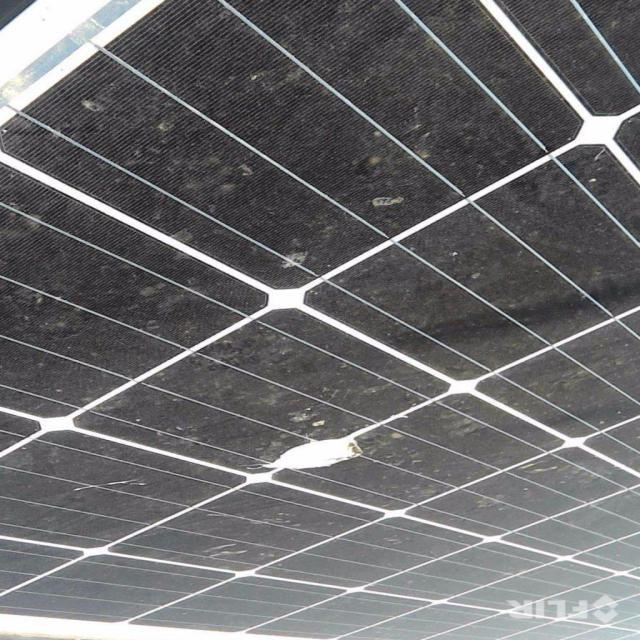soiled: (0, 0, 626, 591)
